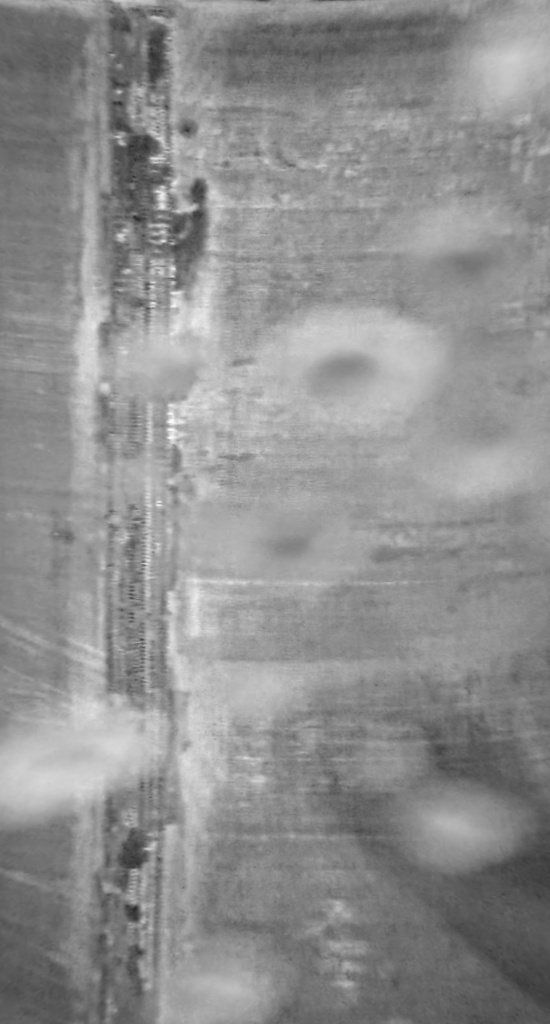splice: (93, 1, 190, 1021)
